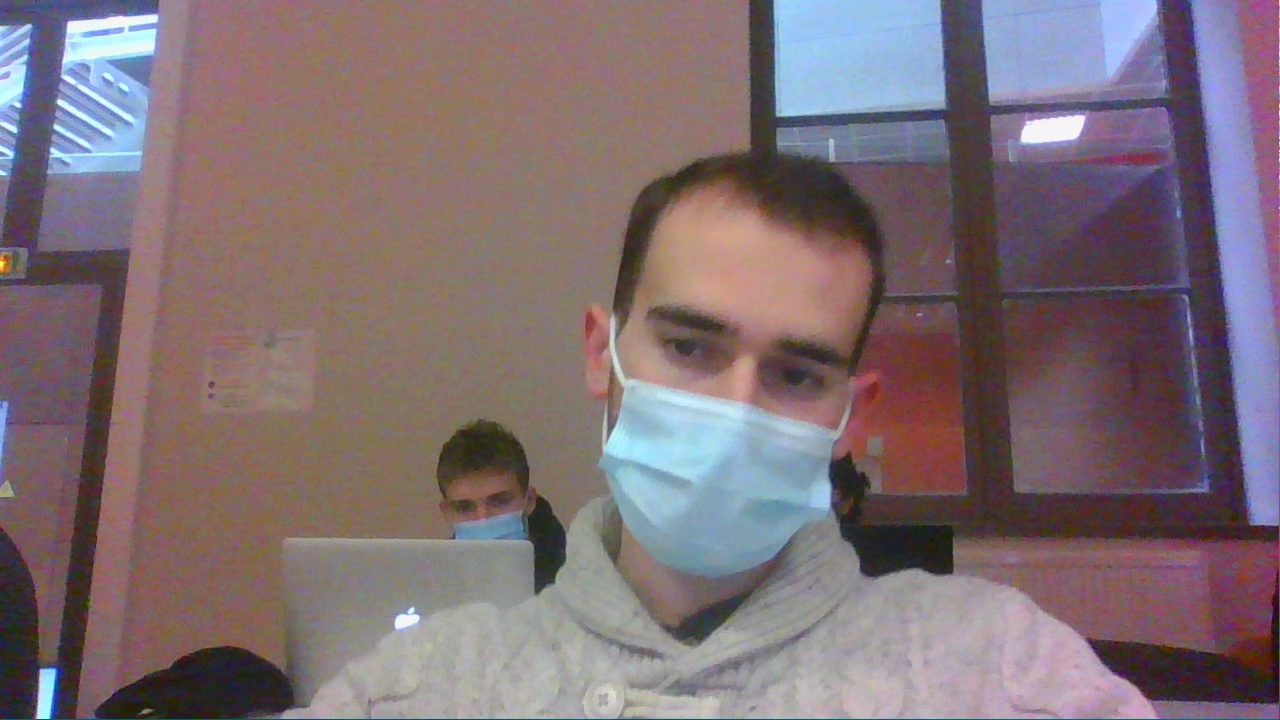mask: (571, 151, 836, 567), (436, 418, 524, 532)
